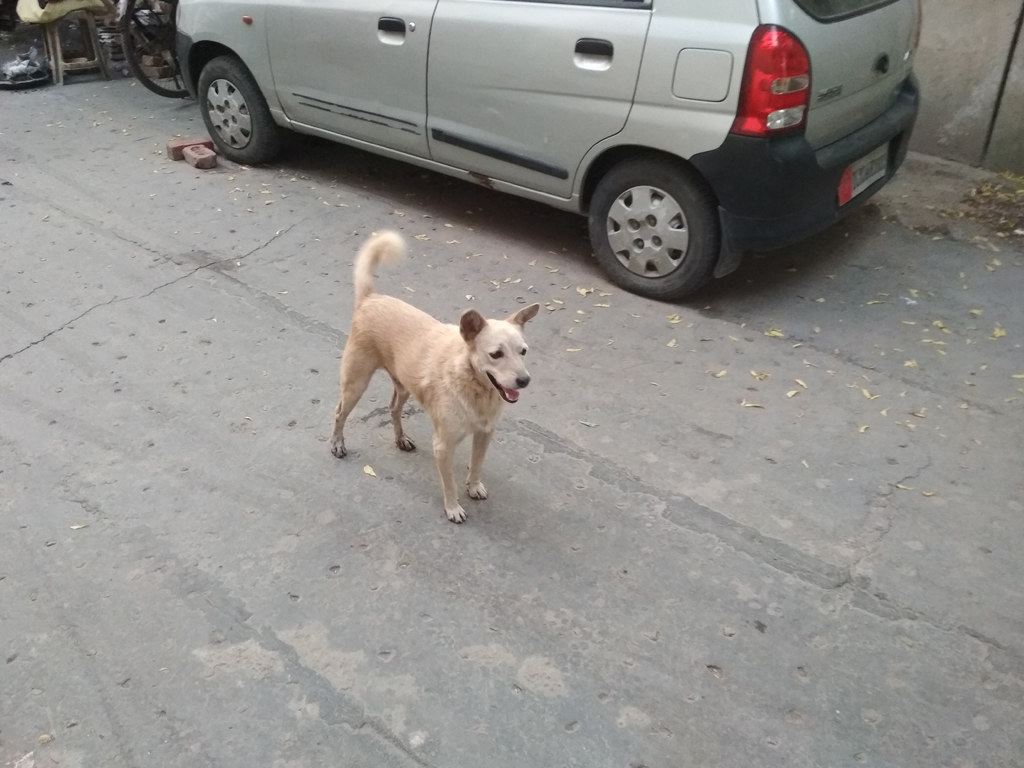dog: (328, 231, 544, 522)
